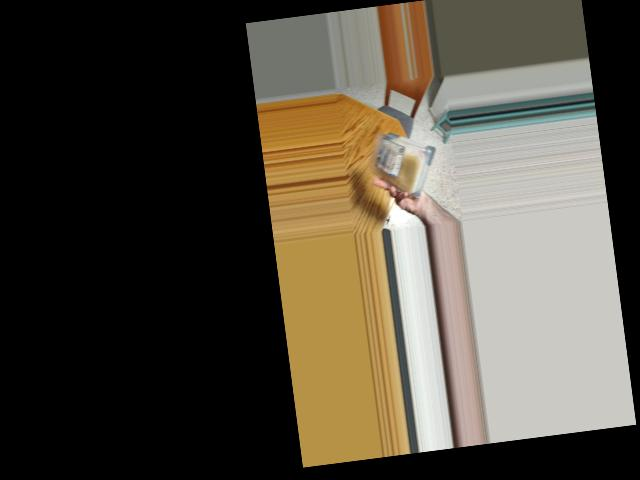cheese: (372, 122, 436, 200)
